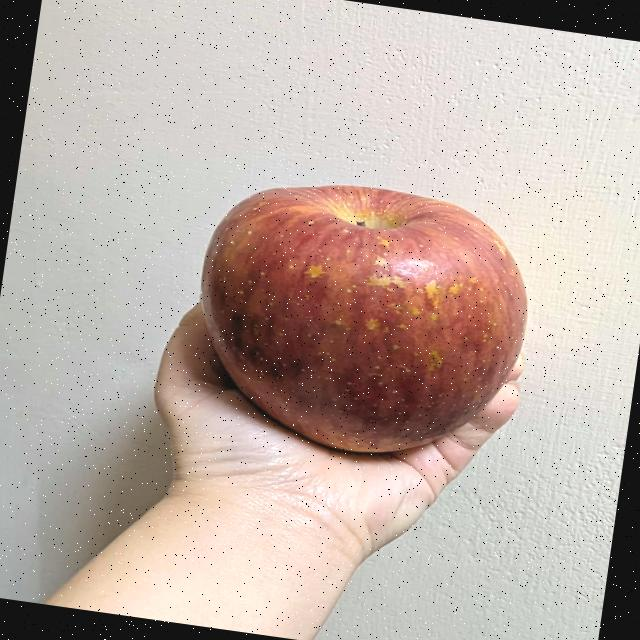apple: (139, 130, 582, 500)
